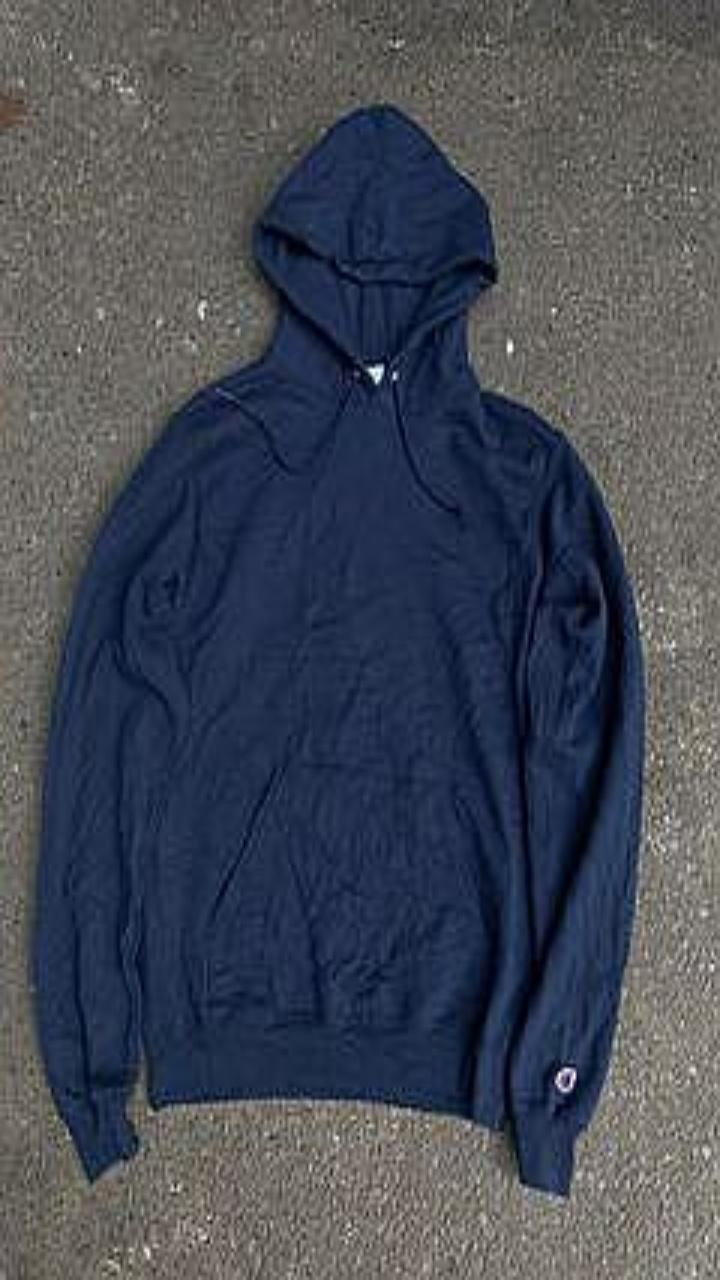Hoodie: (34, 103, 644, 1195)
